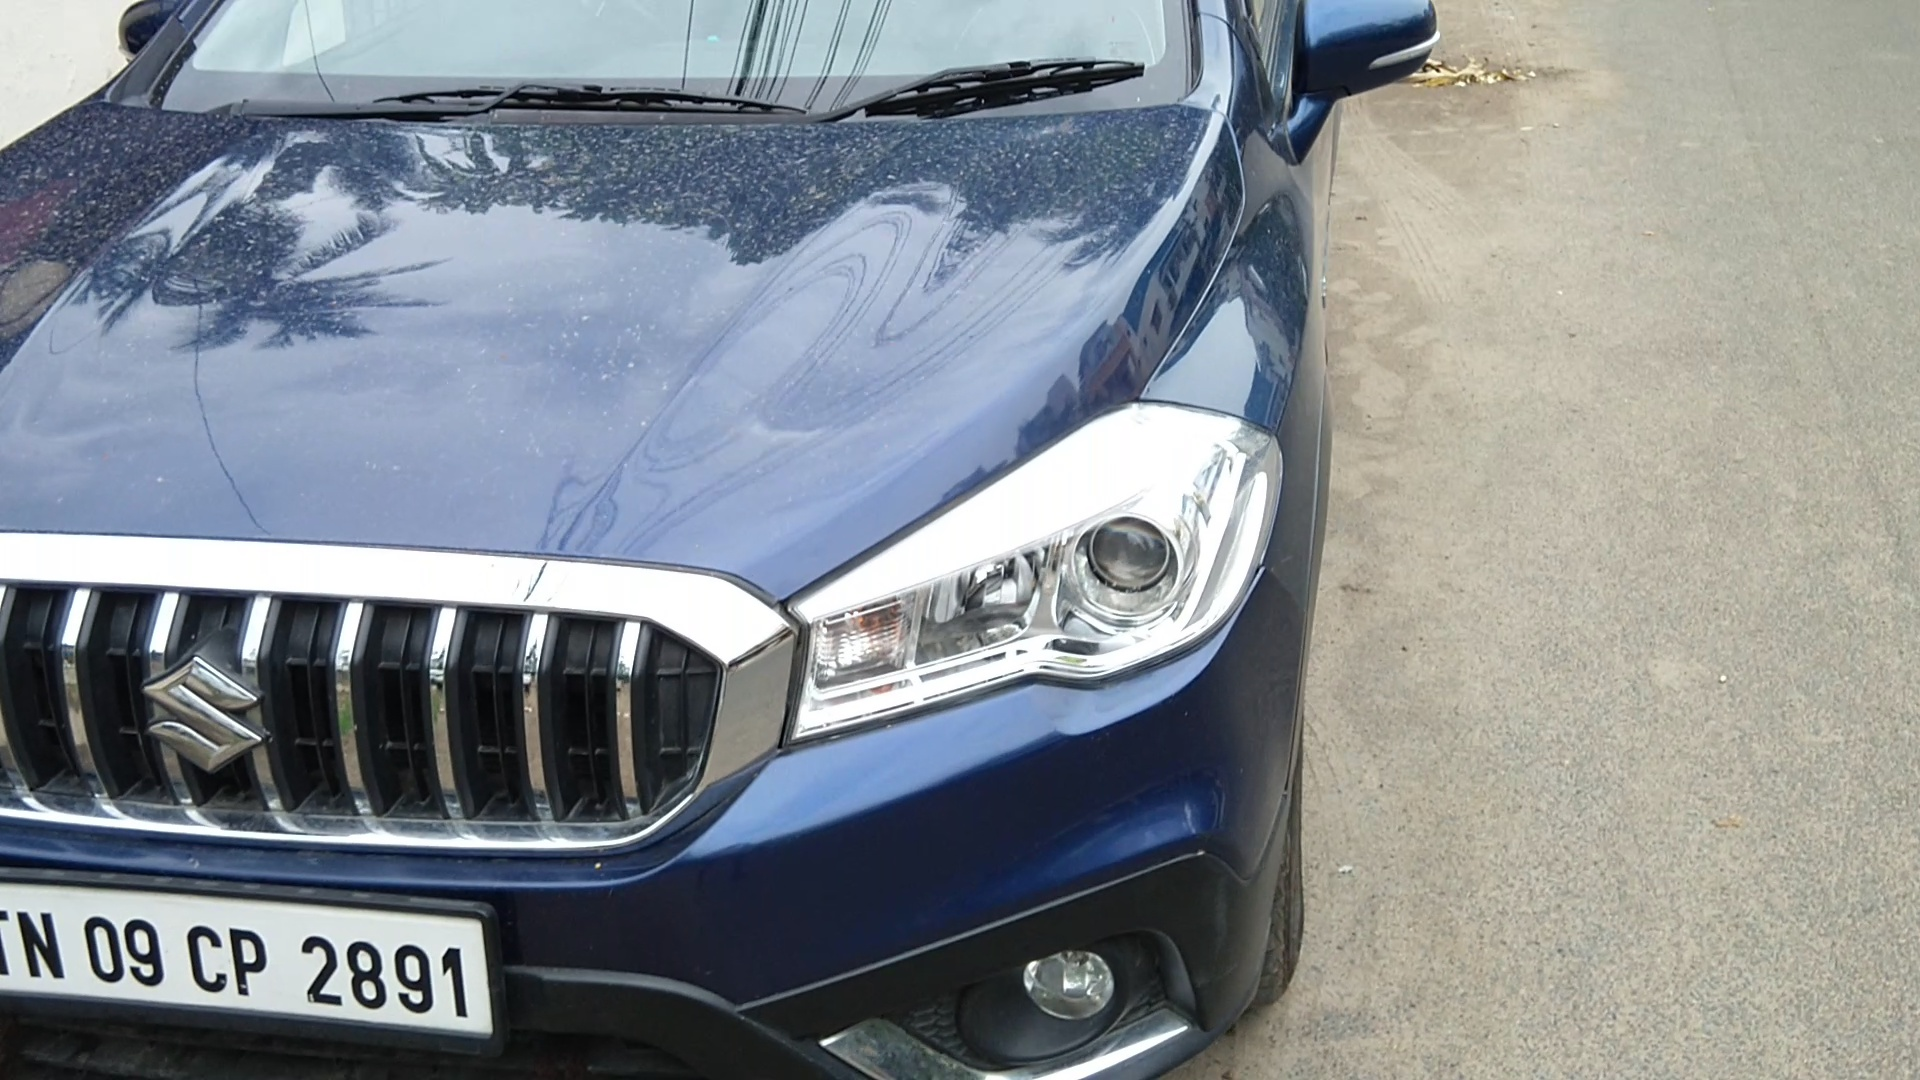front_grill: (3, 520, 794, 876), (800, 381, 1288, 766)
